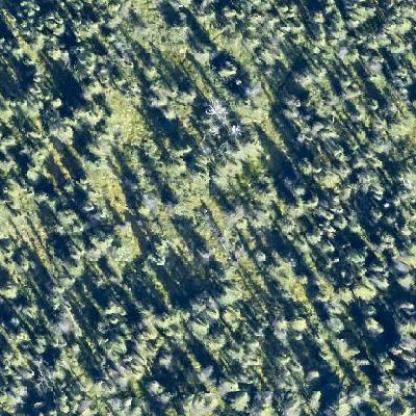tree-top: (106, 220, 140, 262), (67, 96, 105, 128), (140, 77, 174, 109), (209, 276, 245, 306), (17, 140, 54, 168), (278, 87, 304, 121), (336, 74, 363, 101), (323, 310, 348, 335), (100, 295, 127, 318), (142, 376, 166, 398), (215, 57, 238, 77), (361, 314, 385, 333)
